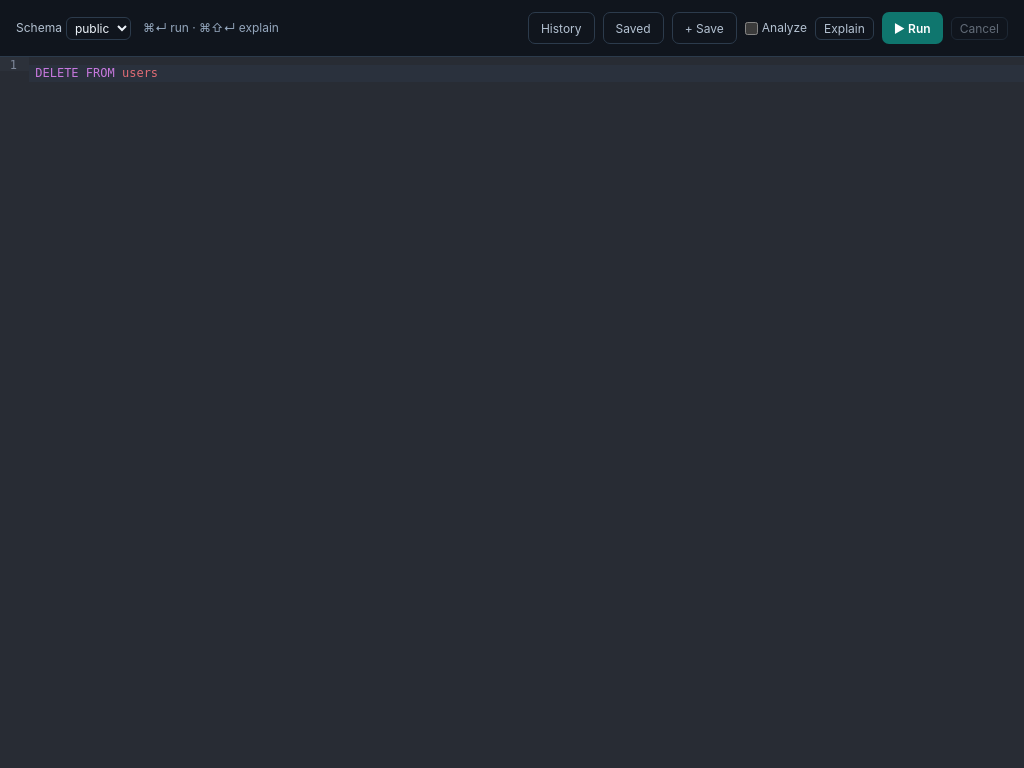
it: SQLEditor — EXPLAIN › makes ANALYZE execution explicit and requires a second opt-in for writes
Check: the field labelled "Allow writes (rolled back)" is not shown
Click the checkbox labelled "Analyze" at (751, 28), box [745,22,758,34]
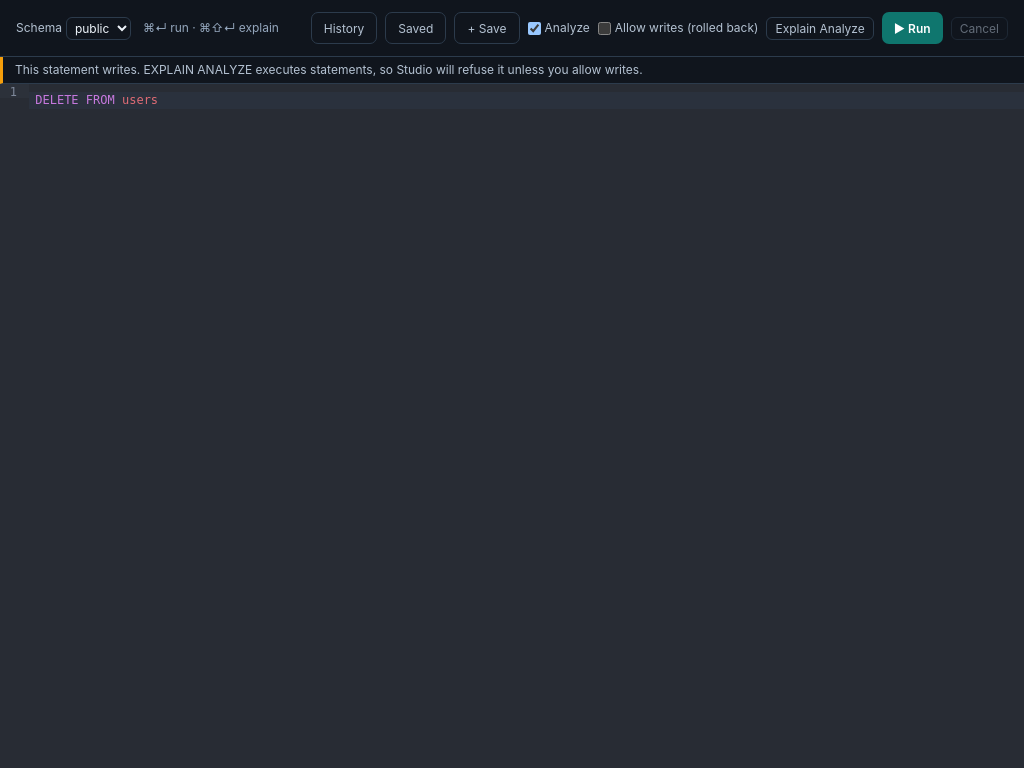
Check: the text "This statement writes. EXPLAIN ANALYZE executes statements" is shown, box [15,62,643,77]
Check: the button "Explain Analyze" is shown
Click the button "Explain Analyze" at (820, 28), box [766,16,874,40]
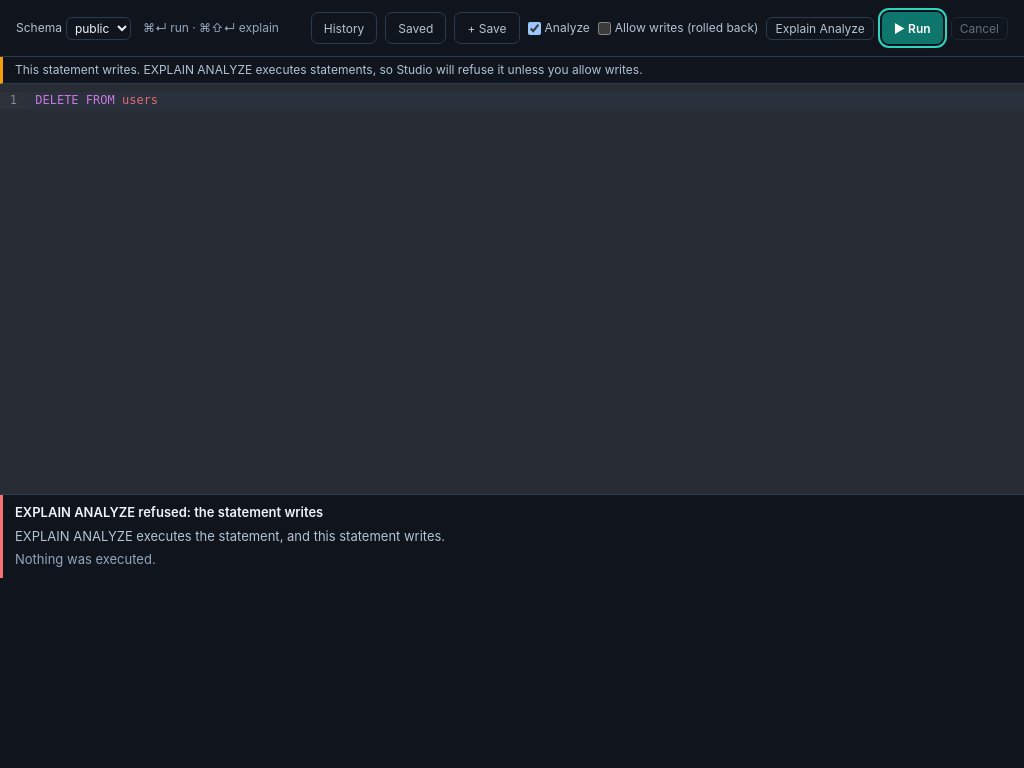
Check: the message shows "Nothing was executed.", box [15,551,156,567]
Click the checkbox labelled "Allow writes (rolled back)" at (604, 28), box [598,22,611,34]
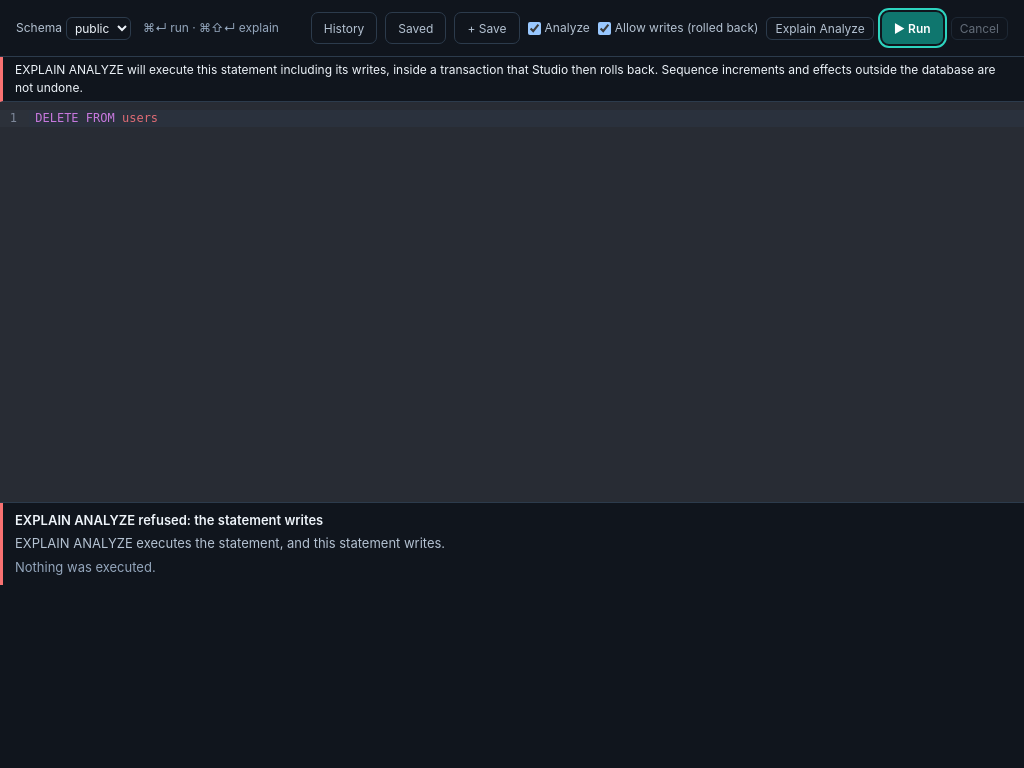
Check: the text "including its writes, inside a transaction that Studio then rolls back" is shown, box [15,62,996,95]
Click the button "Explain Analyze" at (820, 28), box [766,16,874,40]
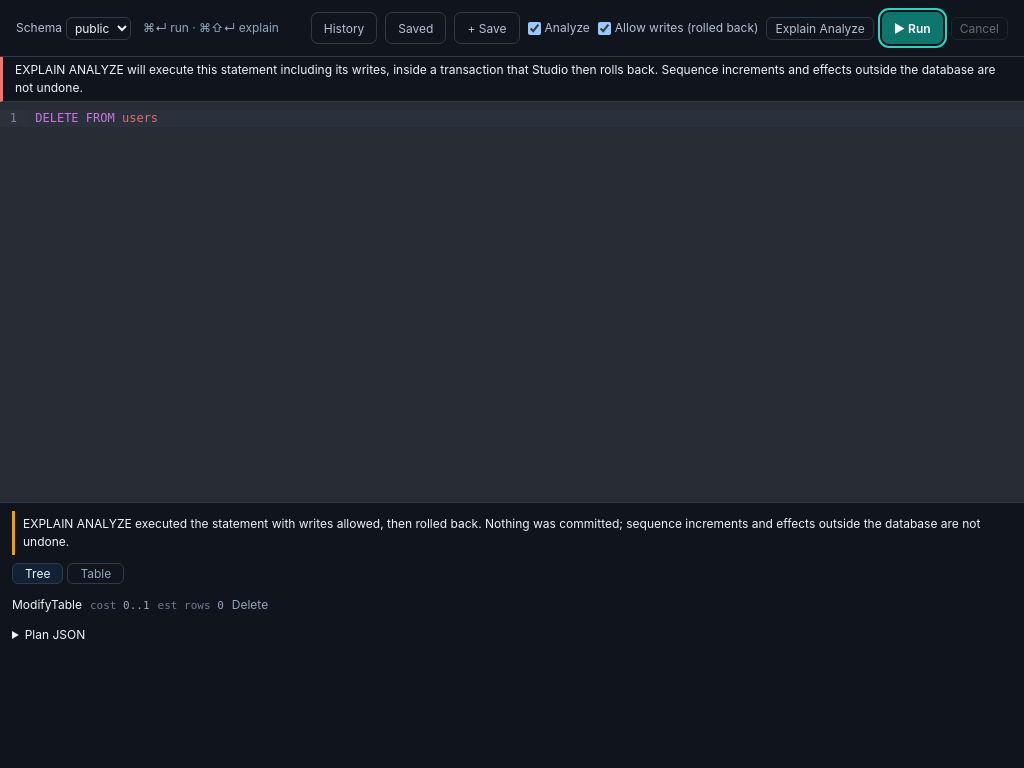
Check: the text "with writes allowed, then rolled back" is shown, box [23,516,980,549]
# Turning Analyze off also withdraws the write opt-in.
Click the checkbox labelled "Analyze" at (534, 28), box [528,22,541,34]
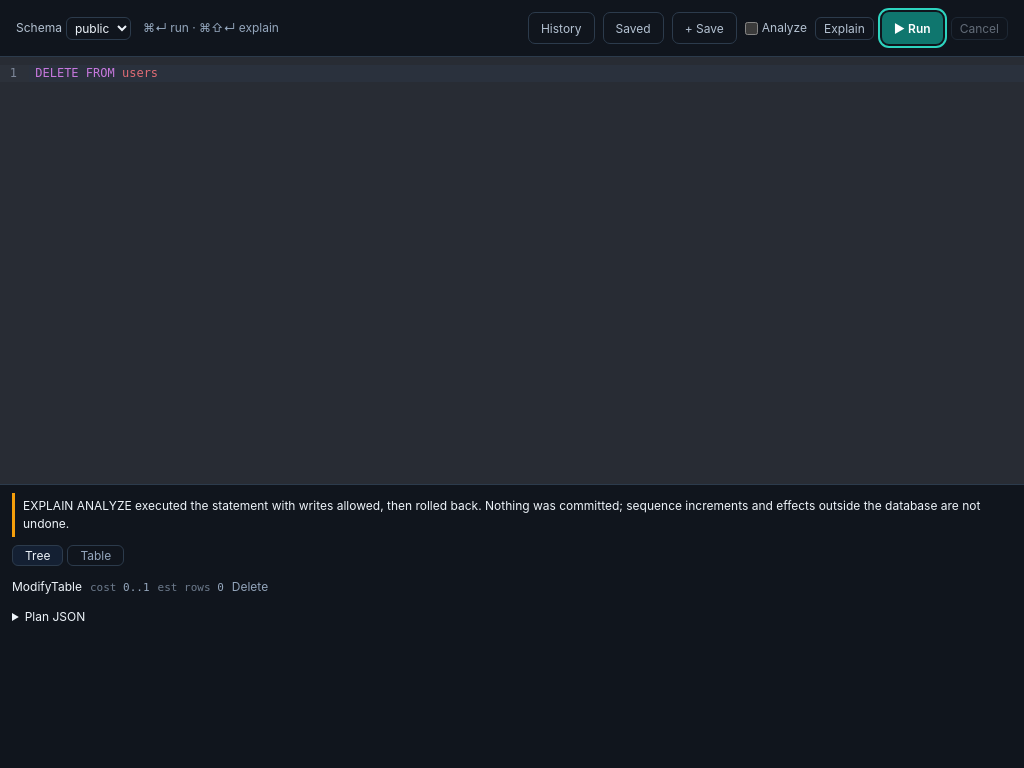
Click the checkbox labelled "Analyze" at (751, 28), box [745,22,758,34]
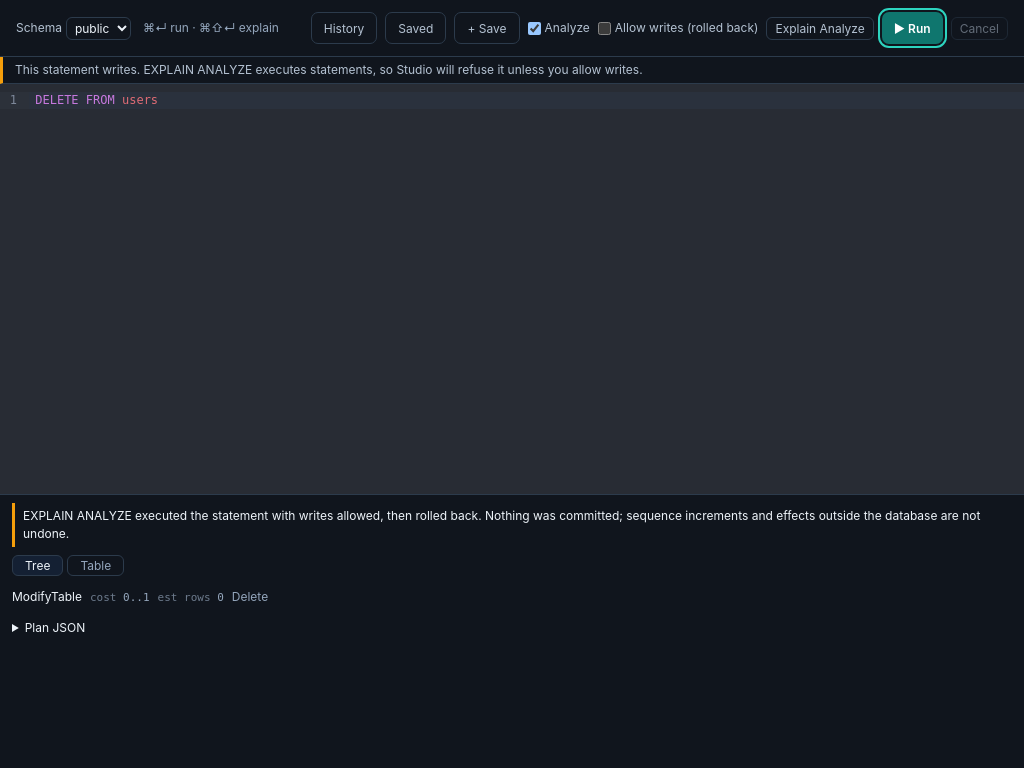
Check: the checkbox labelled "Allow writes (rolled back)" is not checked, box [598,22,611,34]
